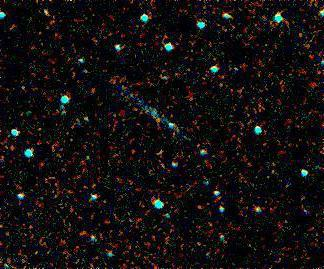star: (144, 107, 174, 137)
